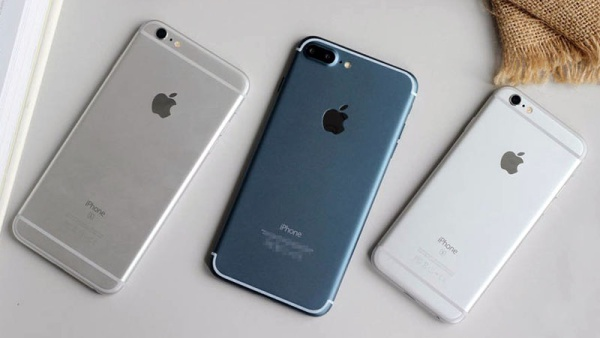apple: (316, 86, 363, 160), (476, 140, 534, 186), (141, 82, 197, 125)
